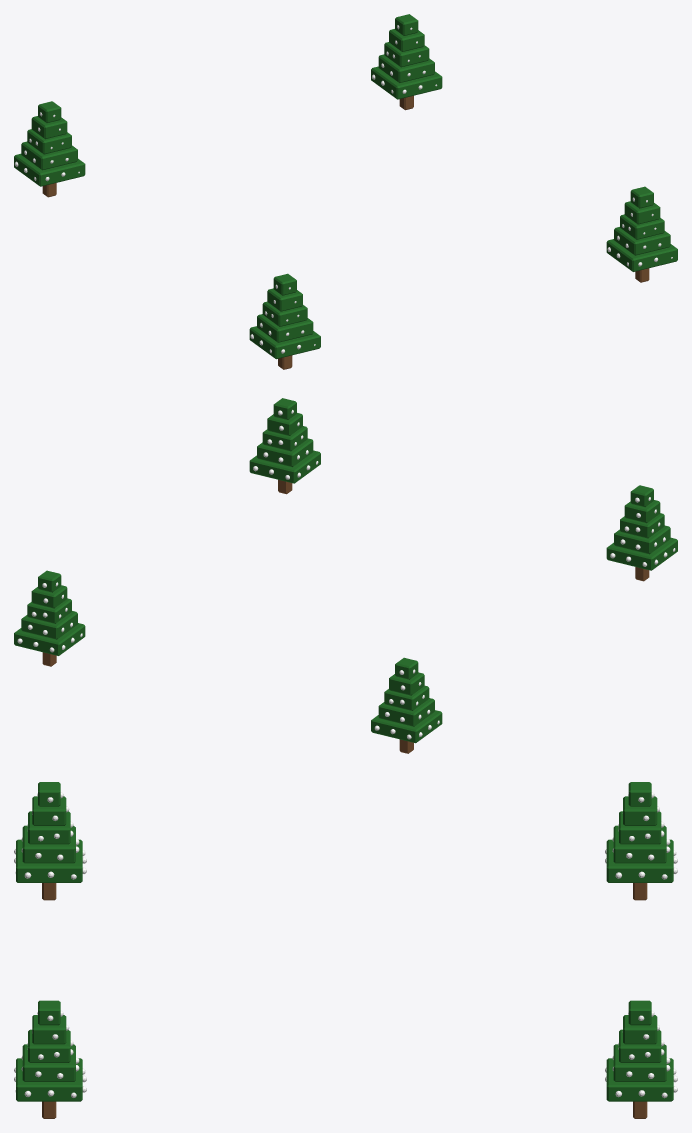
The model's file is trees.glb.
3 renders of one model, top to bottom at view 1: azimuth 30°, elevation 25°; view 2: azimuth 150°, elevation 25°; view 3: azimuth 270°, elevation 25°, orthographic. The views are drawn at different scales.
Visible parts, largest first — view 1: Cube.008, Cube.1016, Cube.1032, Cube.1015; view 2: Cube.008, Cube.1016, Cube.1015, Cube.1032; view 3: Cube.008, Cube.1032, Cube.1016, Cube.1015.
Boxes of the visible parts, left/top/right/bottom form: Cube.008: left=371, top=14, right=442, bottom=110; Cube.1016: left=606, top=186, right=677, bottom=282; Cube.1032: left=14, top=101, right=85, bottom=197; Cube.1015: left=249, top=273, right=320, bottom=369; Cube.008: left=14, top=570, right=85, bottom=666; Cube.1016: left=249, top=398, right=320, bottom=494; Cube.1015: left=606, top=485, right=677, bottom=581; Cube.1032: left=371, top=657, right=442, bottom=753; Cube.008: left=606, top=1000, right=673, bottom=1118; Cube.1032: left=606, top=782, right=673, bottom=900; Cube.1016: left=16, top=1000, right=82, bottom=1118; Cube.1015: left=16, top=782, right=82, bottom=900.
Bounding box in the file's own units: 31.96 × 6.7 × 35.96.
